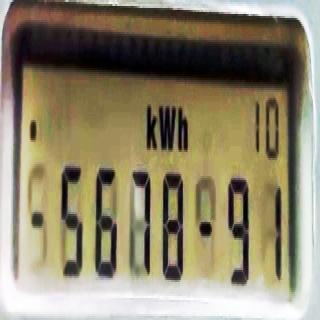-: (31, 201, 45, 238), (198, 210, 212, 247), (29, 115, 38, 143)
0: (265, 92, 280, 166)
1: (273, 174, 283, 289), (254, 90, 261, 162)
5: (59, 157, 85, 284)
6: (93, 158, 120, 286)
7: (132, 162, 152, 280)
8: (161, 161, 184, 288)
9: (226, 170, 251, 290)
